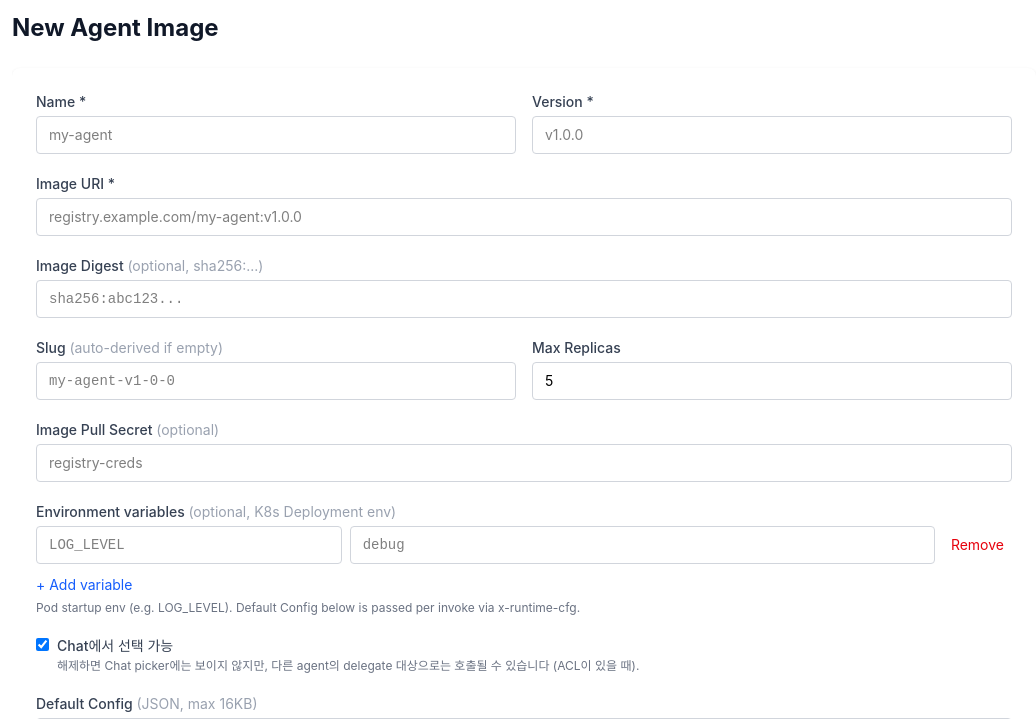
Test case: CustomImageNewPage › adds environment variable row on agent new page
The width and height of the screenshot is (1036, 719).
Expected: the number of fields with placeholder "LOG_LEVEL" is 1, [36,526,342,564]
Click the button "+ Add variable".
click(84, 585)  # box [36,575,132,595]
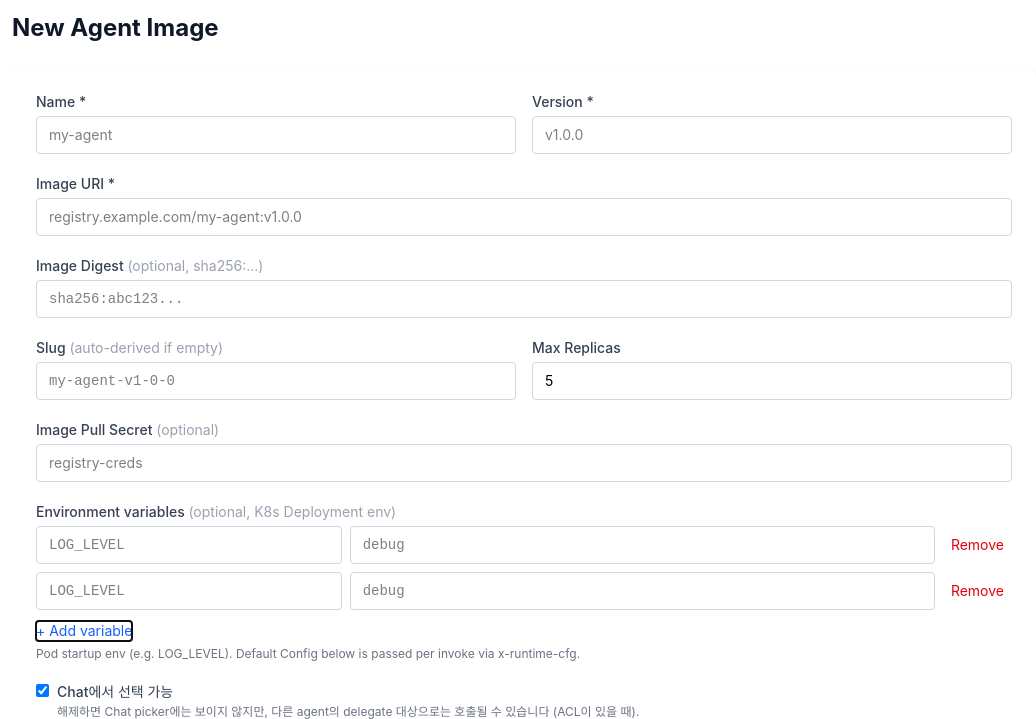
Expected: the number of fields with placeholder "LOG_LEVEL" is 2, [36,526,342,564]; [36,572,342,610]
